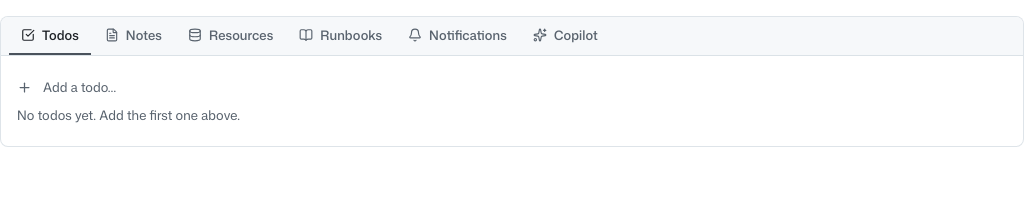
Test: WorkingColumn — Copilot tab › shows the tab and lists merged cloud + app sessions with source-aware status labels
Click the button "Copilot".
click(565, 36)  # box [521,17,610,55]
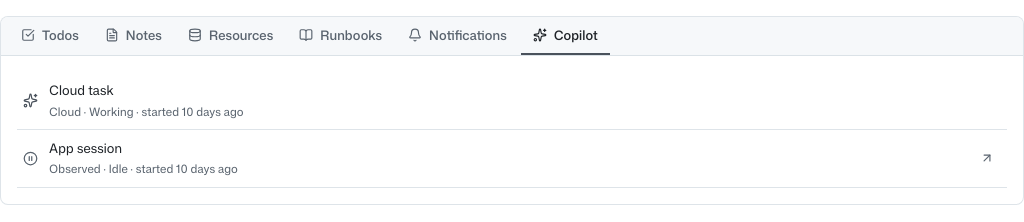
Expected: the text "Cloud task" is shown, [49,81,114,99]
Expected: the text "App session" is shown, [49,139,122,157]
Expected: the element titled "Working" is shown, [23,93,38,108]
